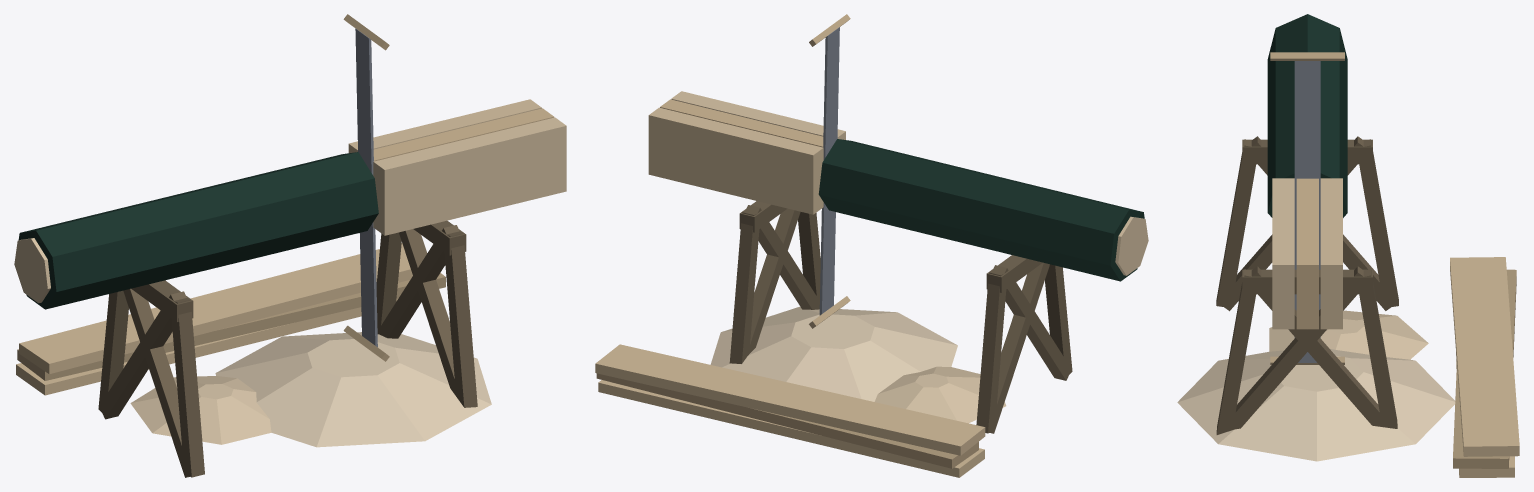
Rendered from saw_pit.glb.
The picture shows the model from 3 angles, left to right: view 1: azimuth 30°, elevation 25°; view 2: azimuth 150°, elevation 25°; view 3: azimuth 270°, elevation 25°; orthographic projection. The views are drawn at different scales.
Visible parts, largest first — view 1: pine_d45, driftwood_d45, driftwood_l30, driftwood_l15, driftwood_l5, driftwood_l20, slate_l15, driftwood_d12, driftwood, driftwood_l10, driftwood_d10; view 2: pine_d45, driftwood_d45, driftwood_l5, driftwood_l30, driftwood_l10, driftwood_l20, driftwood_d12, slate_l15, driftwood_l15, driftwood, driftwood_d10; view 3: driftwood_d45, driftwood_l30, driftwood_l5, pine_d45, slate_l15, driftwood_l15, driftwood_l10, driftwood, driftwood_l20, driftwood_d12, driftwood_d10.
Part boxes in pixels (x1,y1,x2,y2): pine_d45: (18,152,378,309); driftwood_d45: (98,220,477,477); driftwood_l30: (215,332,491,447); driftwood_l15: (14,117,566,303); driftwood_l5: (16,243,412,395); driftwood_l20: (130,376,271,444); slate_l15: (355,28,377,347); driftwood_d12: (17,273,445,380); driftwood: (373,108,554,161); driftwood_l10: (348,99,541,153); driftwood_d10: (343,14,389,361); pine_d45: (818,139,1144,281); driftwood_d45: (729,201,1072,433); driftwood_l5: (595,344,985,477); driftwood_l30: (710,306,957,401); driftwood_l10: (648,107,823,214); driftwood_l20: (874,366,1006,423); driftwood_d12: (596,373,978,468); slate_l15: (819,27,839,315); driftwood_l15: (671,91,1148,275); driftwood: (660,99,823,147); driftwood_d10: (809,14,850,328); driftwood_d45: (1216,136,1398,434); driftwood_l30: (1177,349,1455,461); driftwood_l5: (1450,257,1519,477); pine_d45: (1267,14,1347,217); slate_l15: (1294,61,1320,362); driftwood_l15: (1272,178,1294,329); driftwood_l10: (1320,178,1342,329); driftwood: (1296,178,1318,329); driftwood_l20: (1269,310,1428,359); driftwood_d12: (1453,269,1516,468); driftwood_d10: (1270,52,1344,364).
Size of the model in its own units: 3.13 by 2.12 by 1.84.
